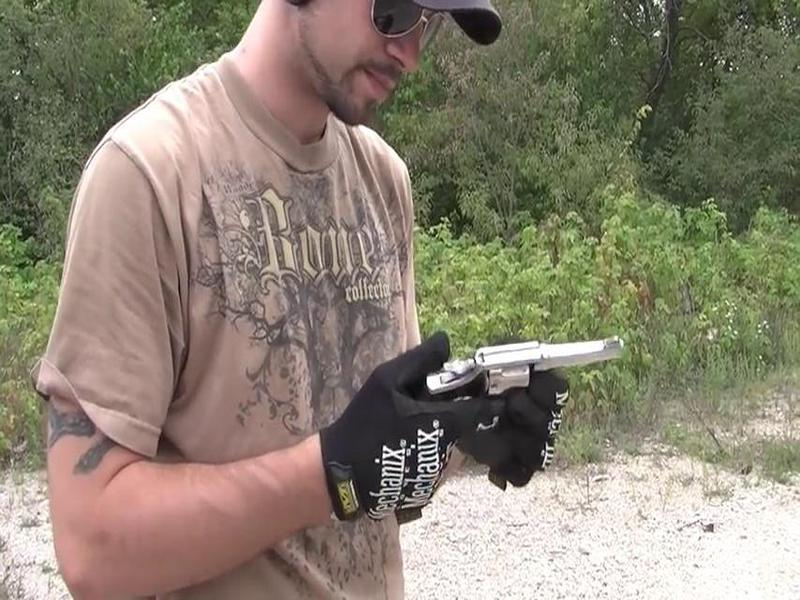Revolver: (437, 302, 647, 436)
